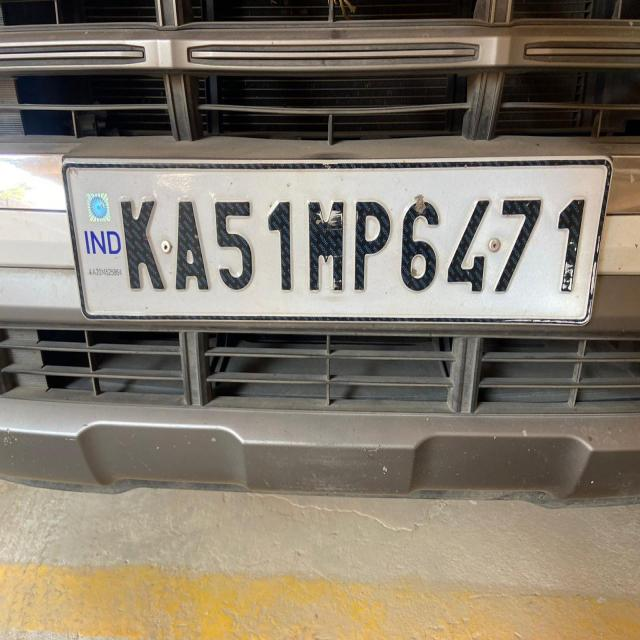1: (549, 188, 588, 300), (262, 192, 297, 300)
4: (442, 192, 497, 299)
5: (210, 187, 256, 293)
6: (392, 193, 445, 294)
7: (493, 186, 546, 303)
A: (166, 192, 218, 300)
K: (116, 190, 170, 303)
M: (301, 194, 347, 298)
P: (349, 195, 396, 301)
